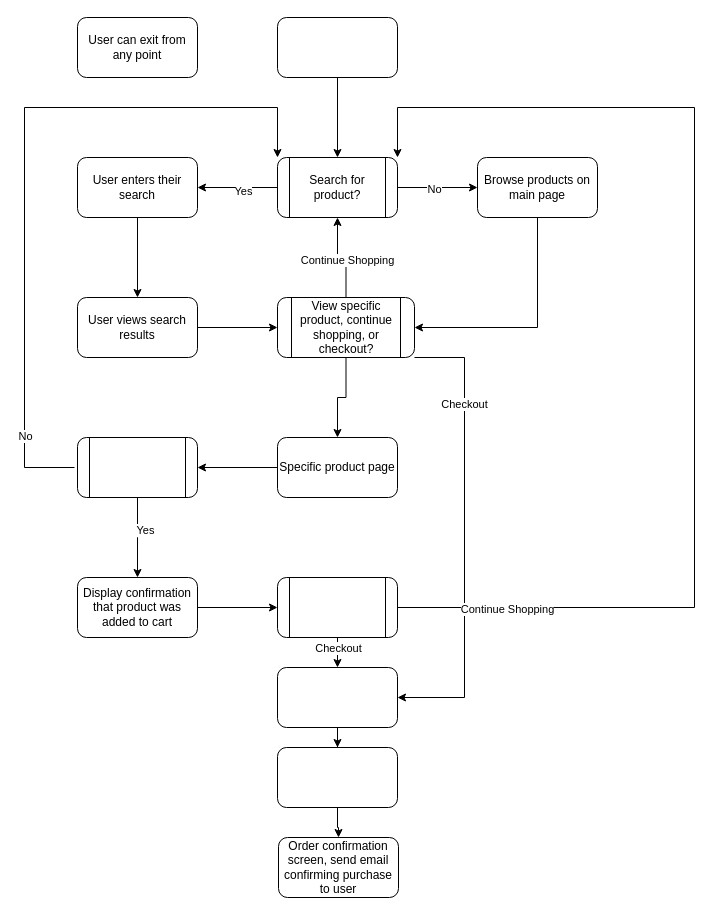
Some shapes in this 720 by 915 pixel diagram are drawn without their labels. Here are the shapes that lost their labels. From the top down, the centre of each, then its label:
the point at 337,47: User enters website
the point at 137,467: Add to cart?
the point at 337,607: Continue shopping or checkout?
the point at 337,697: View cart screen
the point at 337,777: View payment screen
